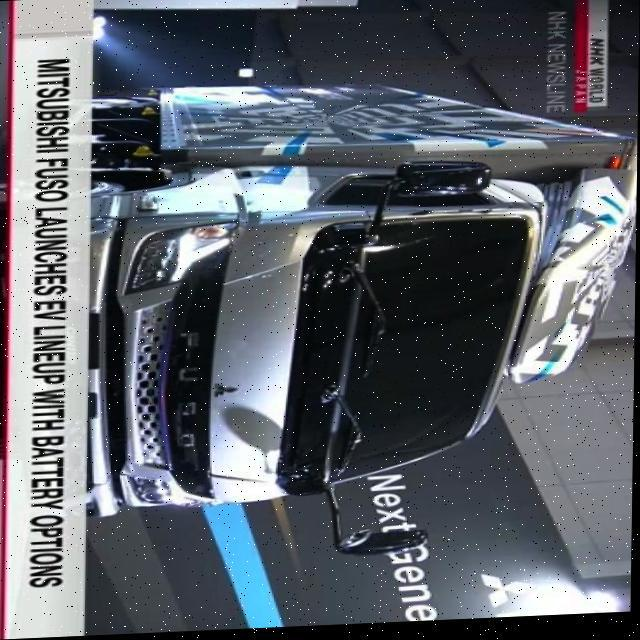truck: (89, 70, 639, 568)
